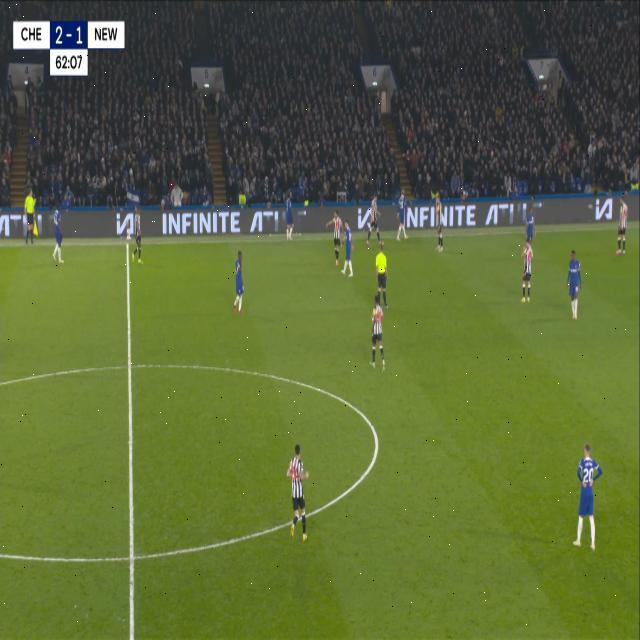Chelsea: (570, 437, 605, 554), (565, 244, 584, 326), (233, 245, 244, 318), (342, 218, 354, 280), (54, 203, 64, 266), (284, 190, 296, 242), (397, 186, 407, 243)
Newcastle: (284, 439, 312, 546), (368, 292, 390, 368), (326, 206, 344, 266), (614, 196, 630, 256), (366, 190, 382, 248), (519, 238, 534, 299), (432, 195, 447, 253), (131, 210, 146, 263)
Refree: (376, 244, 388, 305)
